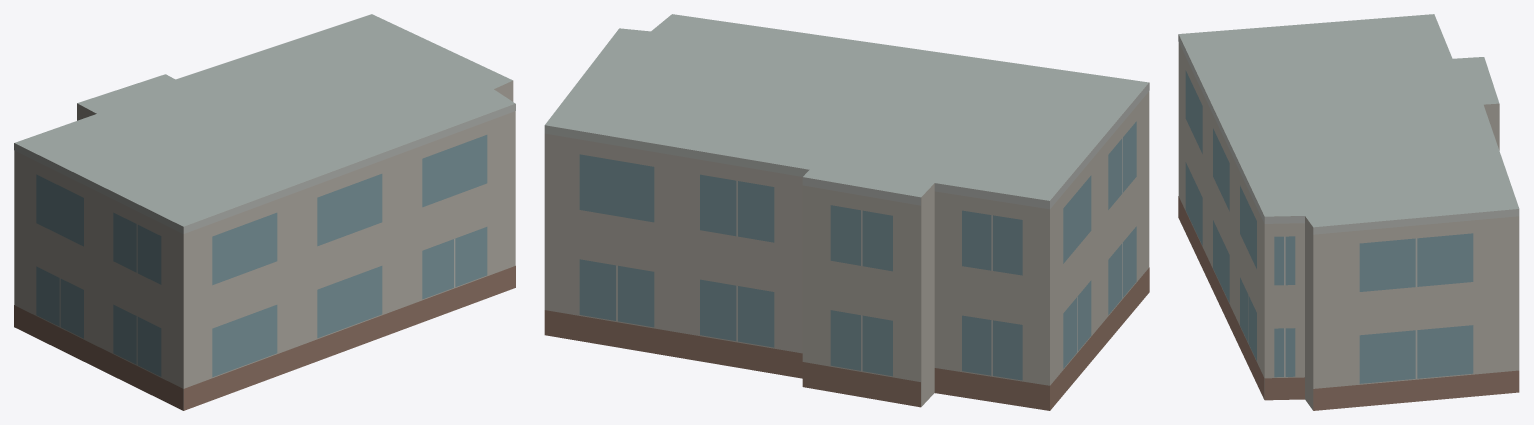
File: survey-upis-32920970.glb
The picture shows the model from 3 angles, left to right: view 1: azimuth 30°, elevation 25°; view 2: azimuth 150°, elevation 25°; view 3: azimuth 270°, elevation 25°; orthographic projection. The views are drawn at different scales.
Visible parts, largest first — view 1: survey-upis-32920970.tmp; view 2: survey-upis-32920970.tmp; view 3: survey-upis-32920970.tmp.
Boxes of the visible parts, <box> form: survey-upis-32920970.tmp: <box>14,14,515,410</box>; survey-upis-32920970.tmp: <box>544,14,1149,410</box>; survey-upis-32920970.tmp: <box>1178,14,1519,410</box>.
Size of the model in its own units: 15.21 by 6.1 by 10.28.
